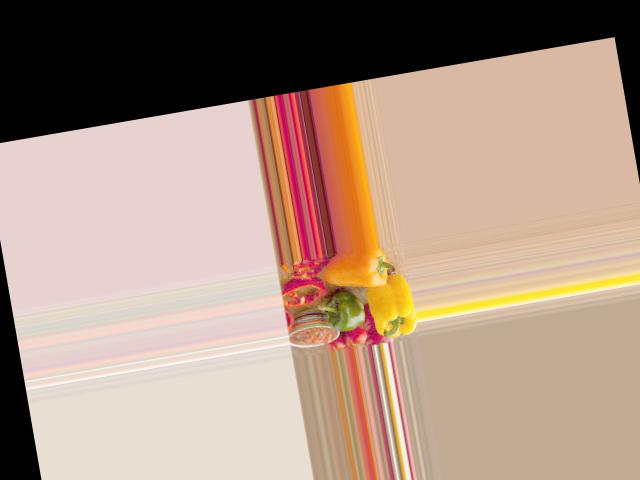bell_pepper: (364, 282, 418, 340)
